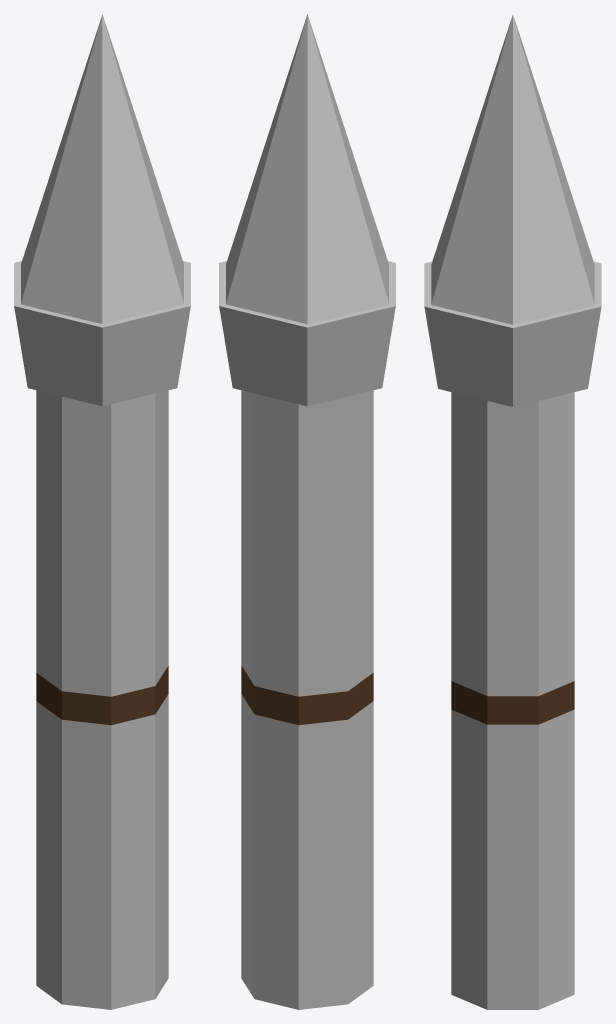
File: totemic_torch_lamp.obj
3 views of the same model, side by side, from view 1: azimuth 30°, elevation 25°; view 2: azimuth 150°, elevation 25°; view 3: azimuth 270°, elevation 25° (orthographic).
Visible parts, largest first — view 1: totemic_torch_lamp; view 2: totemic_torch_lamp; view 3: totemic_torch_lamp.
Boxes of the visible parts, box(x1,y1,x2,y2) form: totemic_torch_lamp: box(14, 14, 190, 1009); totemic_torch_lamp: box(219, 14, 395, 1009); totemic_torch_lamp: box(424, 15, 601, 1009).
Bounding box in the file's own units: 0.26 × 1.36 × 0.2252.
